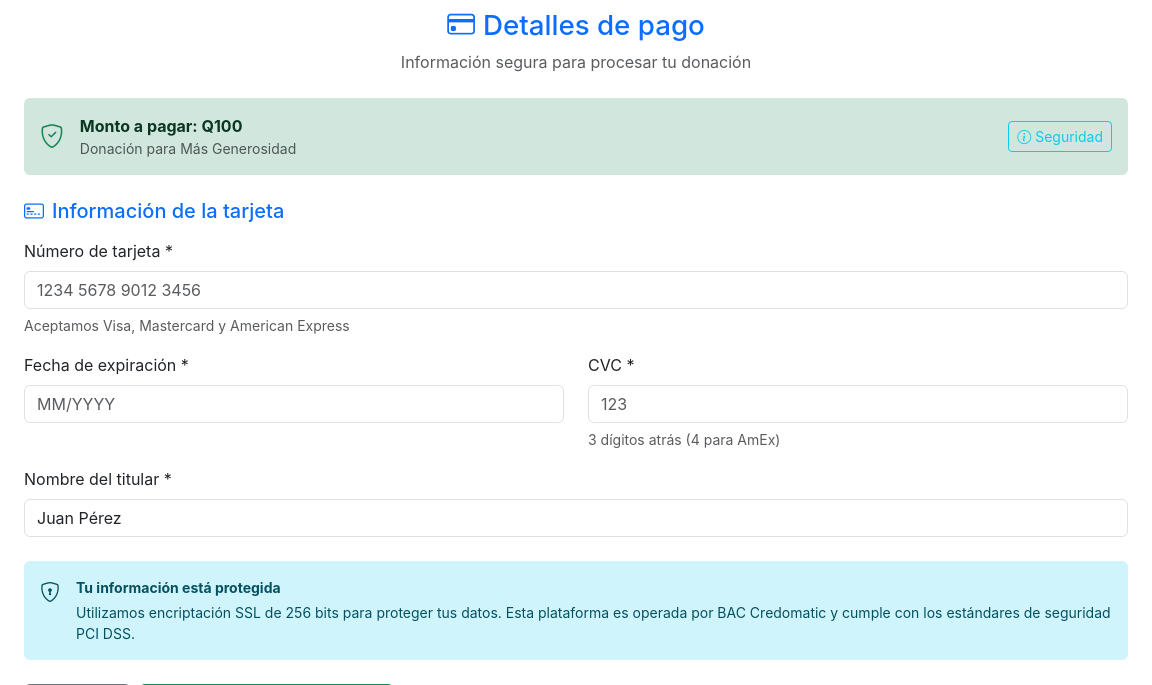
Test: PaymentDetails › validates expiration date format MM/YYYY
// Test invalid format
In the field labelled "Fecha de expiración *": (294, 404) x1=24 y1=385 x2=564 y2=423, type "12/25"
(page scrolled)
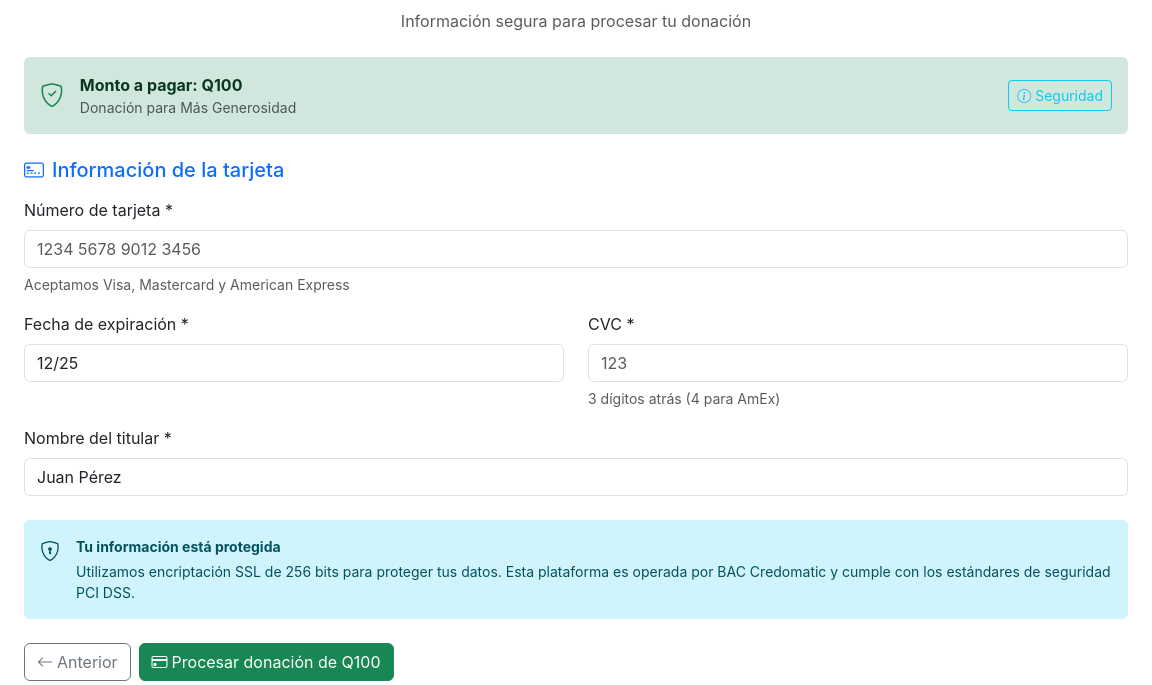
Click the button "Procesar donación de Q100": (266, 662) x1=139 y1=643 x2=394 y2=681
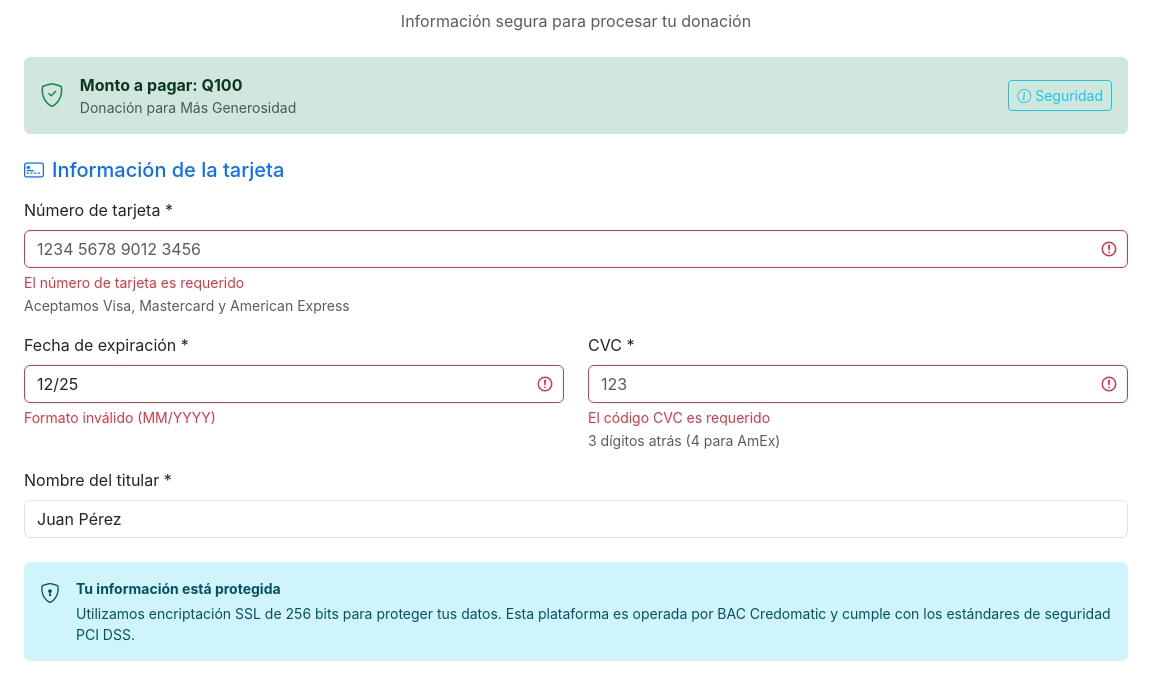
expect the text "Formato inválido (MM/YYYY)" is shown: met, box x1=24 y1=409 x2=216 y2=426
